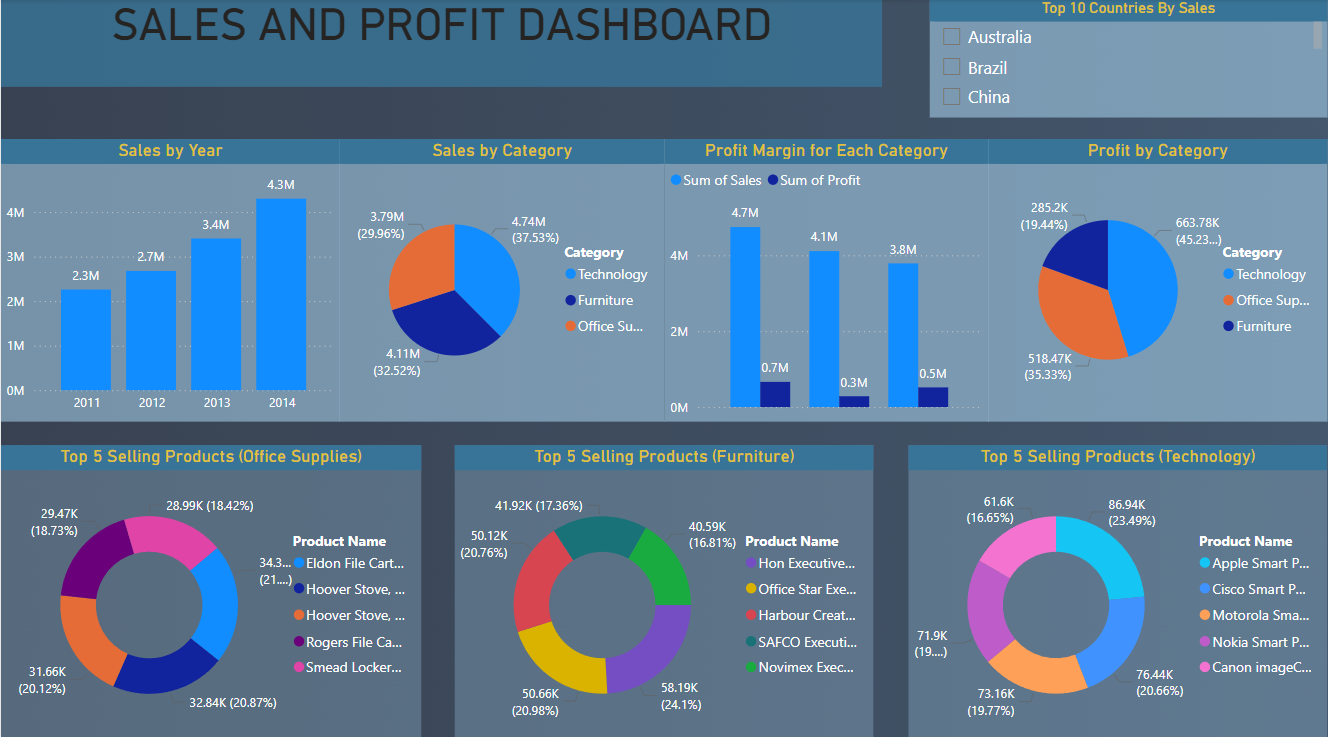

The dashboard page shown, as its layout file describes it:
{"tool":"powerbi","page":{"name":"SALES AND PROFIT","canvas":[1280,720],"ordinal":0},"visuals":[{"type":"columnChart","title":"Sales by Year","fields":{"Category":["Global-Superstore.Year"],"Y":["Sum(Global-Superstore.Sales)"]},"box":[0,135.1,326.9,272.7],"z":0},{"type":"pieChart","title":"Sales by Category","fields":{"Category":["Global-Superstore.Category"],"Y":["Sum(Global-Superstore.Sales)"]},"box":[326.9,135.1,313.7,272.7],"z":1000},{"type":"donutChart","title":"Top 5 Selling Products (Technology)","fields":{"Category":["Global-Superstore.Product Name"],"Y":["Sum(Global-Superstore.Sales)"]},"box":[875.9,430.7,404.2,289.5],"z":2000},{"type":"donutChart","title":"Top 5 Selling Products (Furniture)","fields":{"Category":["Global-Superstore.Product Name"],"Y":["Sum(Global-Superstore.Sales)"]},"box":[437.9,430.7,404.2,289.5],"z":3000},{"type":"donutChart","title":"Top 5 Selling Products (Office Supplies)","fields":{"Category":["Global-Superstore.Product Name"],"Y":["Sum(Global-Superstore.Sales)"]},"box":[0,430.7,405.4,289.5],"z":4000},{"type":"clusteredColumnChart","title":"Profit Margin for Each Category","fields":{"Category":["Global-Superstore.Category"],"Y":["Sum(Global-Superstore.Sales)","Sum(Global-Superstore.Profit)"]},"box":[640.6,135.1,312.5,272.7],"z":5000},{"type":"pieChart","title":"Profit by Category","fields":{"Y":["Sum(Global-Superstore.Profit)"],"Category":["Global-Superstore.Category"]},"box":[953.1,135.1,326.9,272.7],"z":6000},{"type":"textbox","title":"SALES AND PROFIT DASHBOARD","box":[0,0,675.6,49.5],"z":7000},{"type":"slicer","title":"Top 10 Countries By Sales","fields":{"Values":["Global-Superstore.Country"]},"box":[896.4,0,383.6,114.6],"z":8000}]}

Visuals, with their boxes in screenshot pixels (x1, y1, x2, y2), scaled from the page's 1280x720 canvas onto the 1328x737 screenshot:
"Sales by Year" columnChart: (left=0, top=138, right=339, bottom=417)
"Sales by Category" pieChart: (left=339, top=138, right=665, bottom=417)
"Top 5 Selling Products (Technology)" donutChart: (left=909, top=441, right=1327, bottom=736)
"Top 5 Selling Products (Furniture)" donutChart: (left=454, top=441, right=874, bottom=736)
"Top 5 Selling Products (Office Supplies)" donutChart: (left=0, top=441, right=421, bottom=736)
"Profit Margin for Each Category" clusteredColumnChart: (left=665, top=138, right=989, bottom=417)
"Profit by Category" pieChart: (left=989, top=138, right=1327, bottom=417)
"SALES AND PROFIT DASHBOARD" textbox: (left=0, top=0, right=701, bottom=51)
"Top 10 Countries By Sales" slicer: (left=930, top=0, right=1327, bottom=117)
